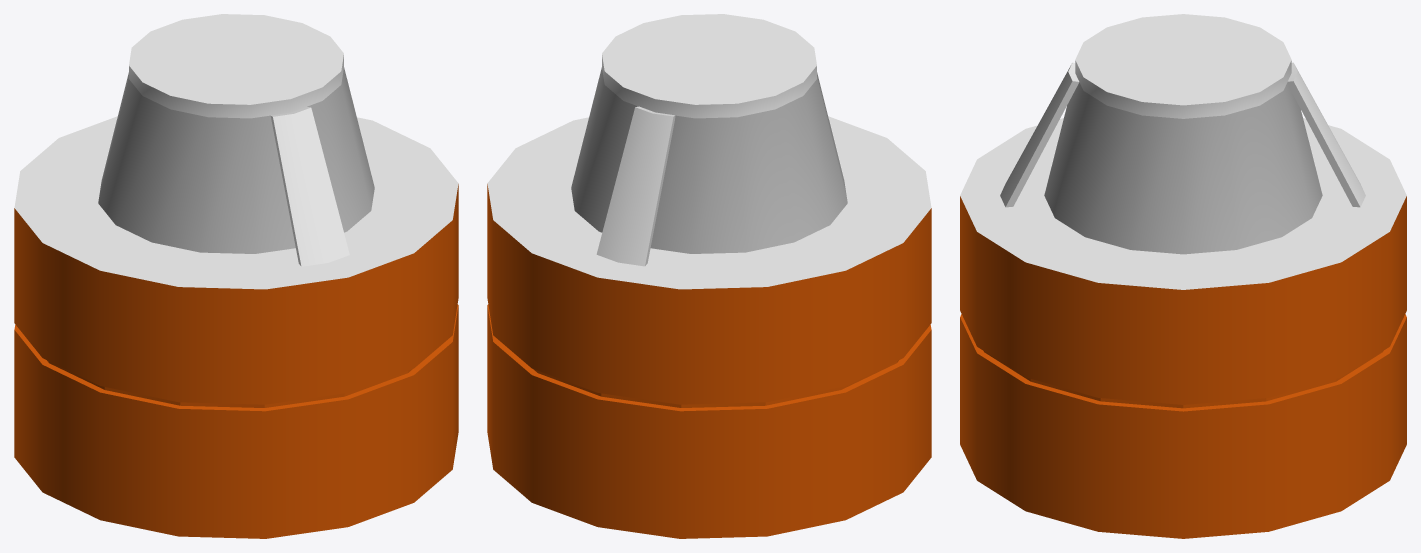
File: shuizhi.gltf
3 renders of one model, left to right at view 1: azimuth 30°, elevation 25°; view 2: azimuth 150°, elevation 25°; view 3: azimuth 270°, elevation 25°, orthographic.
Visible parts, largest first — view 1: shuizhi, Object001; view 2: shuizhi, Object002; view 3: shuizhi, Object001, Object002.
Boxes of the visible parts, bbox=[...] form: shuizhi: bbox=[14, 14, 458, 538]; Object001: bbox=[270, 106, 349, 266]; shuizhi: bbox=[487, 14, 931, 538]; Object002: bbox=[596, 106, 675, 266]; shuizhi: bbox=[960, 14, 1406, 538]; Object001: bbox=[1000, 62, 1079, 207]; Object002: bbox=[1287, 62, 1365, 207].
Bounding box in the file's own units: 0.6 × 0.5701 × 0.6.
